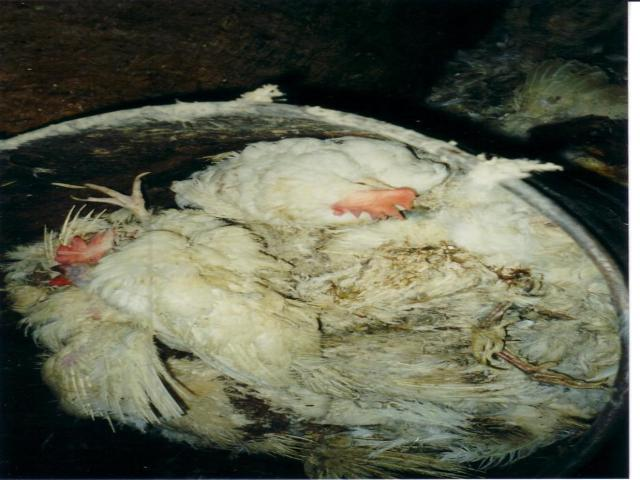Bird: (0, 170, 623, 480), (172, 135, 448, 229)
